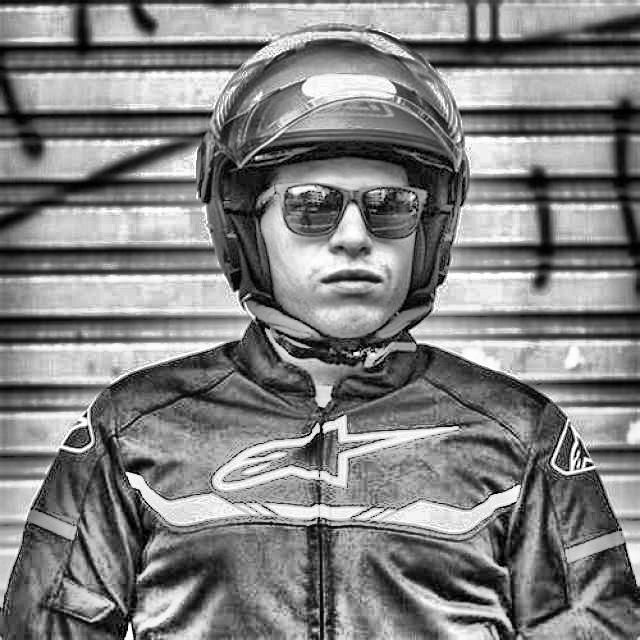Helmet: (188, 16, 474, 380)
